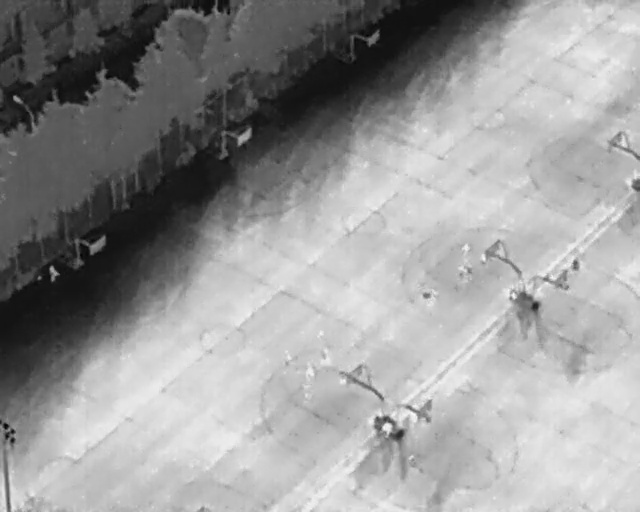Person: (421, 285, 440, 305), (380, 422, 394, 439), (48, 264, 60, 283), (303, 363, 316, 380), (320, 347, 331, 366), (457, 265, 467, 284), (282, 350, 292, 368), (302, 384, 313, 400), (464, 263, 473, 281), (338, 371, 349, 385), (462, 242, 472, 257), (479, 254, 488, 267)
